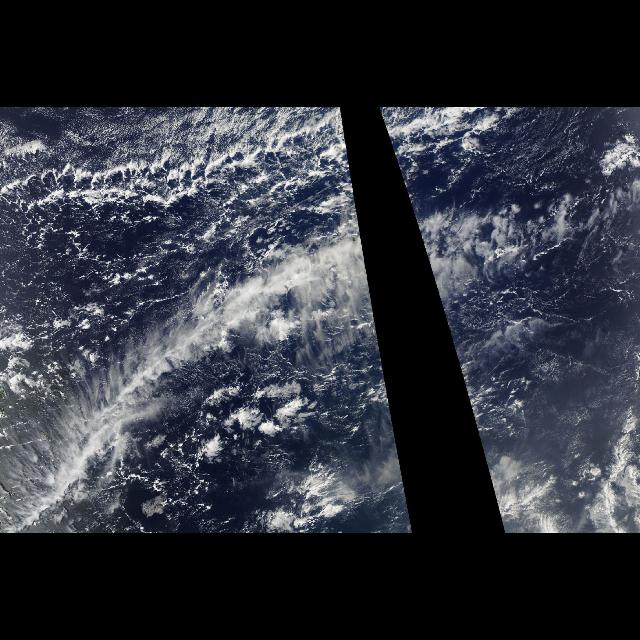Gravel: (0, 144, 326, 326)
